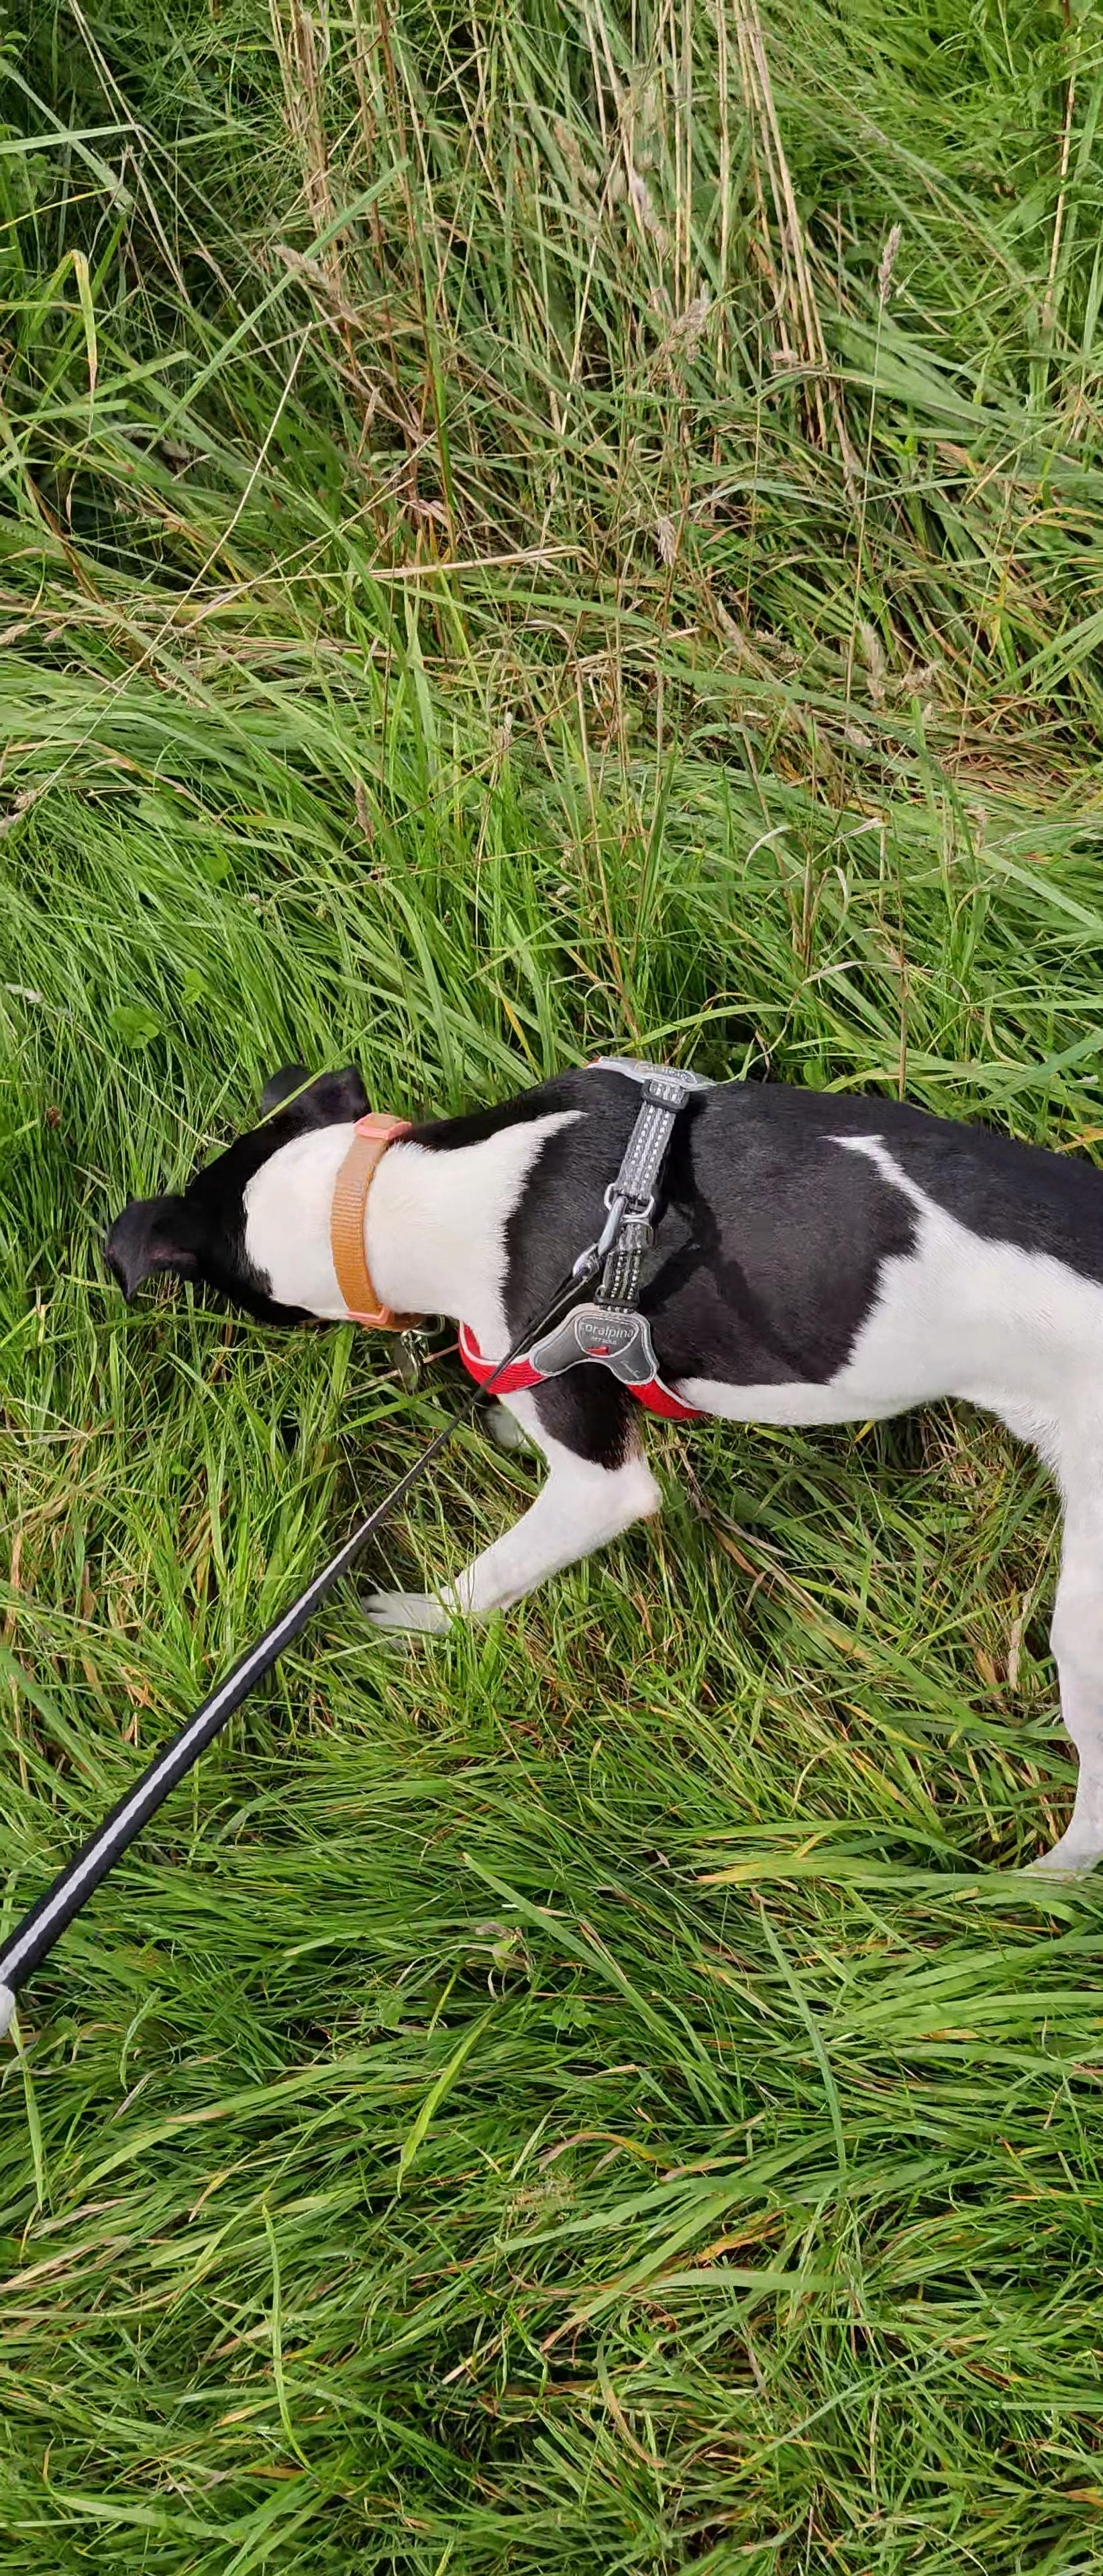Dog: (90, 1027, 1103, 1884)
